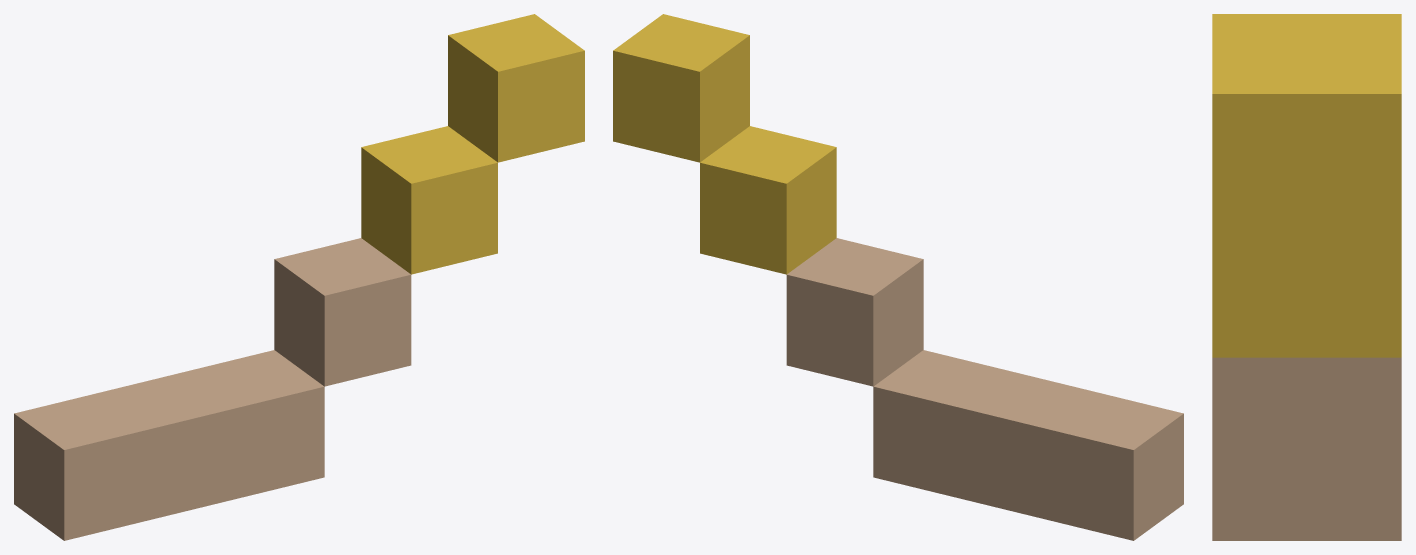
The model's file is orc-14-right_hand_attack.obj.
The picture shows the model from 3 angles, left to right: view 1: azimuth 30°, elevation 25°; view 2: azimuth 150°, elevation 25°; view 3: azimuth 270°, elevation 25°; orthographic projection. The views are drawn at different scales.
Visible parts, largest first — view 1: right_hand_attack; view 2: right_hand_attack; view 3: right_hand_attack.
Part boxes in pixels (left/top/right/bottom): right_hand_attack: left=14, top=14, right=584, bottom=540; right_hand_attack: left=613, top=14, right=1183, bottom=540; right_hand_attack: left=1212, top=14, right=1401, bottom=540.
Bounding box in the file's own units: 0.6 × 0.4 × 0.1.
1 material, 1 textured.
